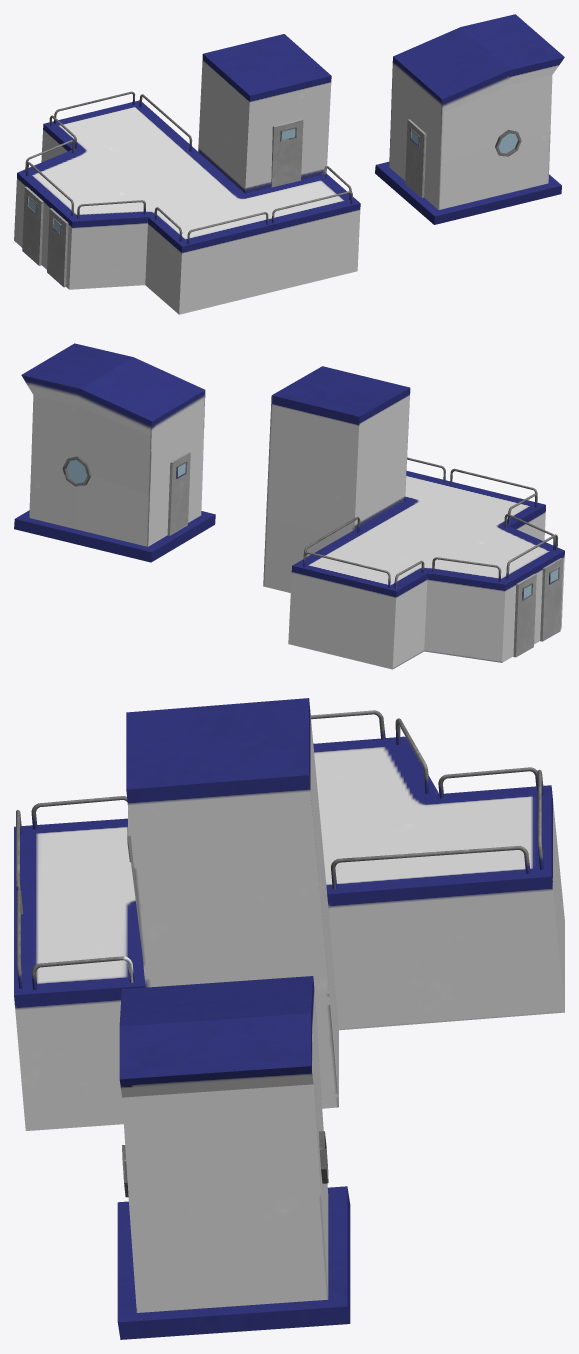
The model's file is ship_platforms.fbx.
The picture shows the model from 3 angles, top to bottom: view 1: azimuth 30°, elevation 25°; view 2: azimuth 150°, elevation 25°; view 3: azimuth 270°, elevation 25°; orthographic projection. The views are drawn at different scales.
Visible parts, largest first — view 1: Cube.041, Cube.005, Cube.051, Cube.046, Cube.045, Cube.006; view 2: Cube.041, Cube.005, Cube.046, Cube.045, Cube.006; view 3: Cube.041, Cube.005, BézierCurve.004.
Boxes of the visible parts, bbox=[...] form: Cube.041: bbox=[14, 34, 360, 314]; Cube.005: bbox=[375, 14, 564, 224]; Cube.051: bbox=[271, 119, 303, 187]; Cube.046: bbox=[22, 186, 43, 265]; Cube.045: bbox=[47, 208, 68, 287]; Cube.006: bbox=[405, 119, 426, 197]; Cube.041: bbox=[263, 366, 564, 669]; Cube.005: bbox=[14, 343, 215, 562]; Cube.046: bbox=[513, 573, 536, 657]; Cube.045: bbox=[540, 558, 563, 641]; Cube.006: bbox=[167, 452, 190, 535]; Cube.041: bbox=[14, 698, 564, 1130]; Cube.005: bbox=[117, 976, 350, 1339]; BézierCurve.004: bbox=[331, 846, 530, 889].
Bounding box in the file's own units: 4931 × 1816 × 2548.
Materials: 1 (1 with a texture image).
